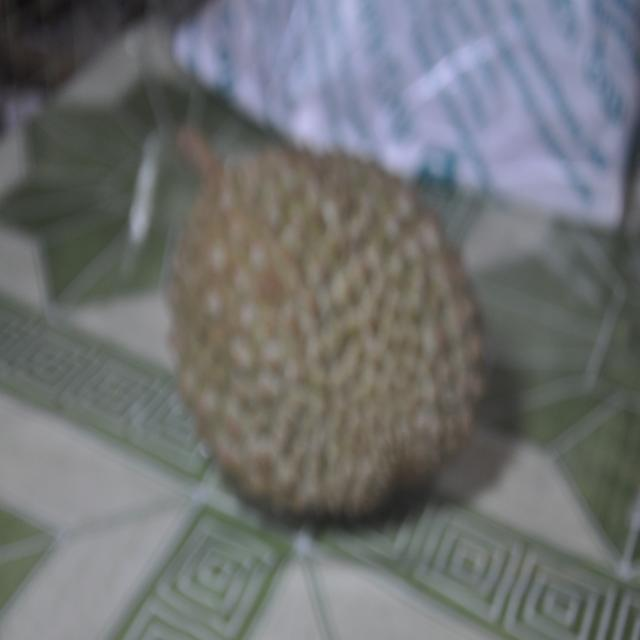mature: (170, 129, 484, 516)
